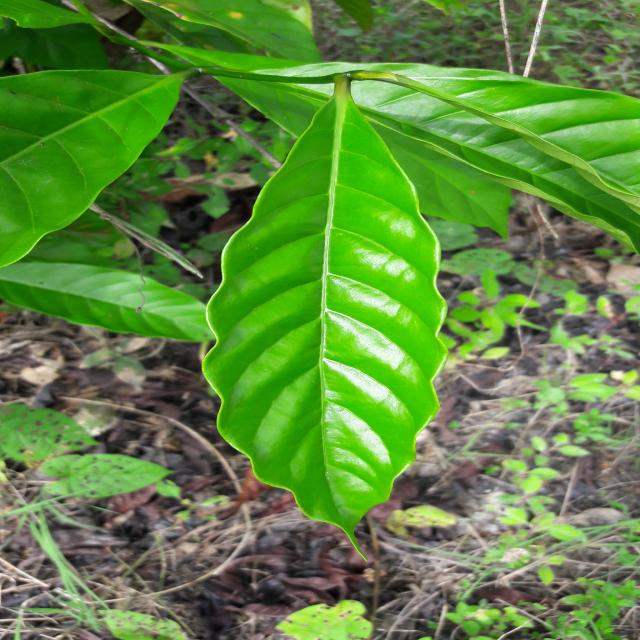Sanas: (201, 102, 446, 536)
